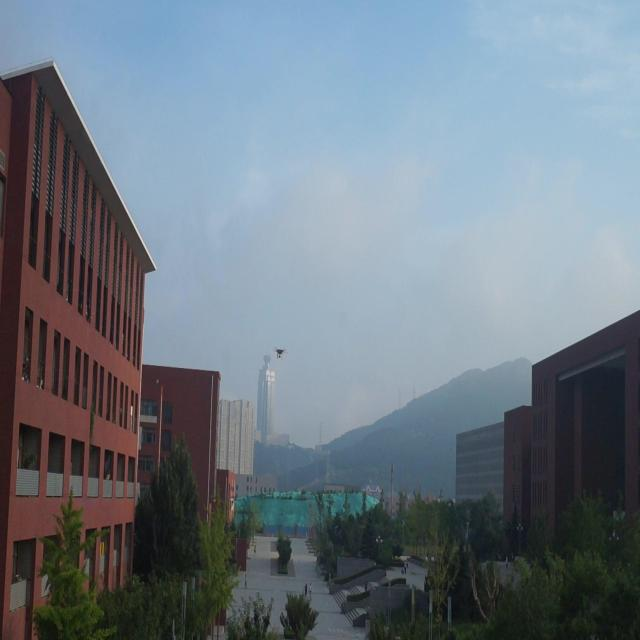drone: (272, 344, 288, 359)
